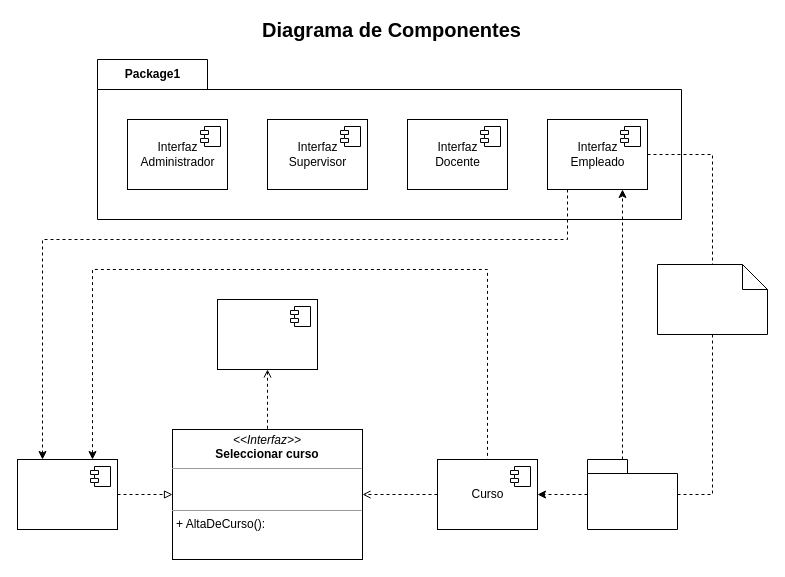
The diagram is 785 pixels wide and 577 high, and some of its shapes have lost their labels. The centre of each missing label's shape, as x and y in pixels:
BD KMS: the point at 67,494
Búsqueda: the point at 267,334
Empleado - Cursos .dll: the point at 712,299
Inscripción: the point at 632,494
